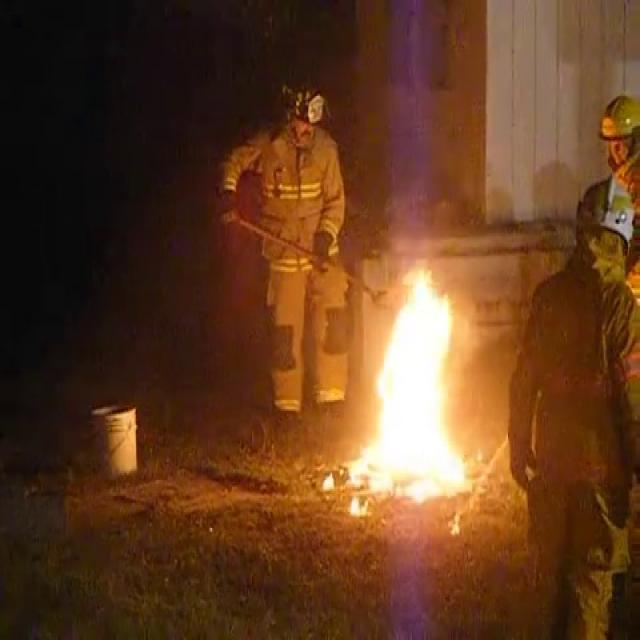Fire: (340, 257, 474, 511)
